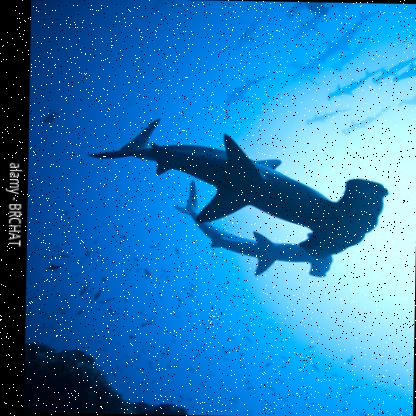hammerhead_Shark: (84, 108, 395, 281)
